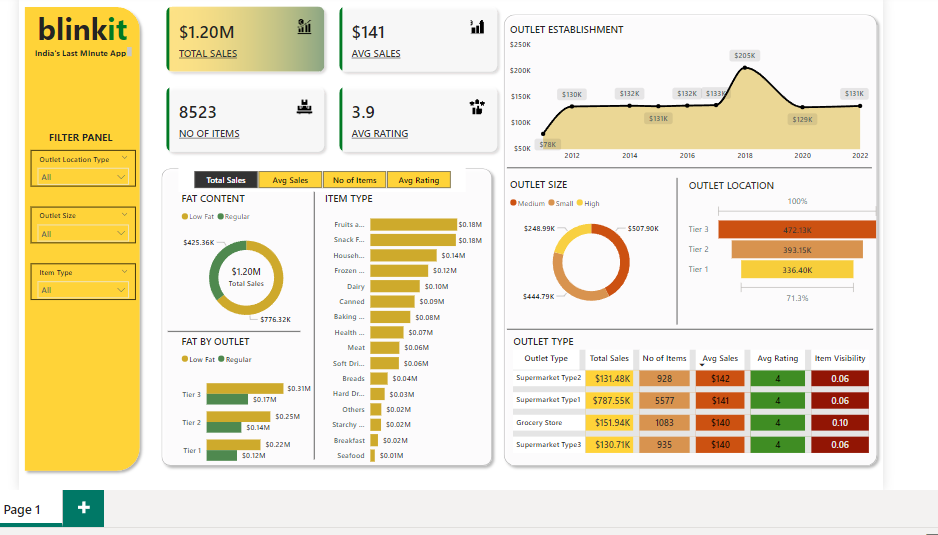

The page's visual inventory and layout, read from the dashboard file:
{"tool":"powerbi","page":{"name":"Page 1","canvas":[1400,800],"ordinal":0},"visuals":[{"type":"shape","box":[0,8.7,204.6,769.8],"z":0},{"type":"textbox","box":[17.4,15.6,170,76.3],"z":1000},{"type":"textbox","box":[19.1,78.1,168.3,26],"z":2000},{"type":"cardVisual","fields":{"Data":["BlinkIT Grocery Data.Total Sales","BlinkIT Grocery Data.Avg Sales","BlinkIT Grocery Data.No of Items","BlinkIT Grocery Data.Avg Rating"]},"box":[221.9,0,570.4,270.5],"z":3000},{"type":"shape","box":[222.1,270.7,553.5,499.7],"z":4000},{"type":"donutChart","title":"FAT CONTENT","fields":{"Y":["BlinkIT Grocery Data.Total Sales"],"Category":["BlinkIT Grocery Data.Item Fat Content"]},"box":[258.5,317.5,220.3,230.8],"z":5000},{"type":"slicer","fields":{"Values":["Metrics.Metrics"]},"box":[258.5,277.6,465,39.9],"z":6000},{"type":"cardVisual","fields":{"Data":["BlinkIT Grocery Data.Total Sales"]},"box":[295,419.9,147.5,57.3],"z":7000},{"type":"clusteredBarChart","title":"FAT BY OUTLET","fields":{"Y":["BlinkIT Grocery Data.Total Sales"],"Category":["BlinkIT Grocery Data.Outlet Location Type"],"Series":["BlinkIT Grocery Data.Item Fat Content"]},"box":[258.5,548.3,220.3,230.8],"z":8000},{"type":"shape","box":[241.2,520.5,215.1,46.8],"z":9000},{"type":"shape","box":[456.3,317.5,45.1,433.8],"z":10000},{"type":"barChart","title":"ITEM TYPE","fields":{"Y":["BlinkIT Grocery Data.Total Sales"],"Category":["BlinkIT Grocery Data.Item Type"]},"box":[491,317.5,265.5,452.8],"z":11000},{"type":"shape","box":[777.3,20.8,622.9,749.5],"z":12000},{"type":"lineChart","title":"OUTLET ESTABLISHMENT","fields":{"Y":["BlinkIT Grocery Data.Total Sales"],"Category":["BlinkIT Grocery Data.Outlet Establishment Year"]},"box":[791.2,43.4,591.6,234.2],"z":13000},{"type":"shape","box":[790.6,258.3,591.2,39.9],"z":14000},{"type":"donutChart","title":"OUTLET SIZE","fields":{"Y":["BlinkIT Grocery Data.Total Sales"],"Category":["BlinkIT Grocery Data.Outlet Size"]},"box":[790.6,294.8,273.9,225.4],"z":15000},{"type":"shape","box":[1043.8,294.8,45.1,237.5],"z":16000},{"type":"funnel","title":"OUTLET LOCATION","fields":{"Y":["Sum(BlinkIT Grocery Data.Sales)"],"Category":["BlinkIT Grocery Data.Outlet Location Type"]},"box":[1080.2,296.5,319,208.1],"z":17000},{"type":"shape","box":[791.2,520.5,593.4,39.9],"z":18000},{"type":"pivotTable","title":"OUTLET TYPE","fields":{"Rows":["BlinkIT Grocery Data.Outlet Type"],"Values":["BlinkIT Grocery Data.Total Sales","BlinkIT Grocery Data.No of Items","BlinkIT Grocery Data.Avg Sales","BlinkIT Grocery Data.Avg Rating","Avg(BlinkIT Grocery Data.Item Visibility)"]},"box":[795.8,547.9,589.5,202.9],"z":19000},{"type":"slicer","fields":{"Values":["BlinkIT Grocery Data.Outlet Location Type"]},"box":[19.1,249.7,169.9,59],"z":19001},{"type":"slicer","fields":{"Values":["BlinkIT Grocery Data.Outlet Size"]},"box":[19.1,341.6,169.9,59],"z":19002},{"type":"slicer","fields":{"Values":["BlinkIT Grocery Data.Item Type"]},"box":[19.1,433.5,169.9,59],"z":19003},{"type":"textbox","box":[43.3,213.3,121.4,45.1],"z":19004}]}

Visuals, with their boxes on the page's 1400x800 design canvas (x1, y1, x2, y2). These are canvas units, not pixel positions in the 938x535 screenshot, which may show the page scaled, cropped or inside an application window:
shape: x1=0, y1=9, x2=205, y2=778
textbox: x1=17, y1=16, x2=187, y2=92
textbox: x1=19, y1=78, x2=187, y2=104
cardVisual - BlinkIT Grocery Data.Total Sales x BlinkIT Grocery Data.Avg Sales: x1=222, y1=0, x2=792, y2=270
shape: x1=222, y1=271, x2=776, y2=770
"FAT CONTENT" donutChart: x1=258, y1=318, x2=479, y2=548
slicer - Metrics.Metrics: x1=258, y1=278, x2=724, y2=318
cardVisual - BlinkIT Grocery Data.Total Sales: x1=295, y1=420, x2=442, y2=477
"FAT BY OUTLET" clusteredBarChart: x1=258, y1=548, x2=479, y2=779
shape: x1=241, y1=520, x2=456, y2=567
shape: x1=456, y1=318, x2=501, y2=751
"ITEM TYPE" barChart: x1=491, y1=318, x2=756, y2=770
shape: x1=777, y1=21, x2=1400, y2=770
"OUTLET ESTABLISHMENT" lineChart: x1=791, y1=43, x2=1383, y2=278
shape: x1=791, y1=258, x2=1382, y2=298
"OUTLET SIZE" donutChart: x1=791, y1=295, x2=1064, y2=520
shape: x1=1044, y1=295, x2=1089, y2=532
"OUTLET LOCATION" funnel: x1=1080, y1=296, x2=1399, y2=505
shape: x1=791, y1=520, x2=1385, y2=560
"OUTLET TYPE" pivotTable: x1=796, y1=548, x2=1385, y2=751
slicer - BlinkIT Grocery Data.Outlet Location Type: x1=19, y1=250, x2=189, y2=309
slicer - BlinkIT Grocery Data.Outlet Size: x1=19, y1=342, x2=189, y2=401
slicer - BlinkIT Grocery Data.Item Type: x1=19, y1=434, x2=189, y2=492
textbox: x1=43, y1=213, x2=165, y2=258
